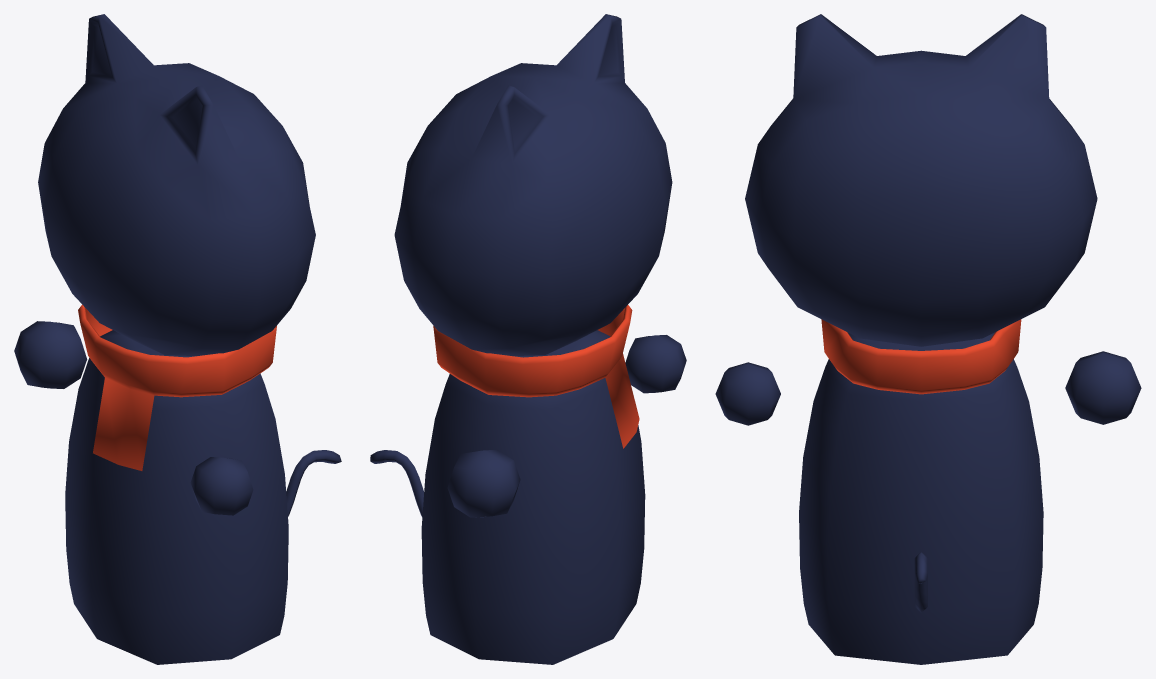
Rendered from dummy_character.fbx.
3 views of the same model, side by side, from view 1: azimuth 30°, elevation 25°; view 2: azimuth 150°, elevation 25°; view 3: azimuth 270°, elevation 25° (orthographic). The views are drawn at different scales.
Parts seen in each view (by area): view 1: mc_head, mc_body, mc_muffler, mc_hand_2, mc_hand, mc_tail; view 2: mc_head, mc_body, mc_muffler, mc_hand_2, mc_hand, mc_tail; view 3: mc_head, mc_body, mc_muffler, mc_hand_2, mc_hand, mc_tail.
Part boxes in pixels (x1,y1,x2,y2): mc_head: (38, 14, 315, 355); mc_body: (65, 330, 288, 664); mc_muffler: (78, 304, 276, 470); mc_hand_2: (14, 321, 87, 388); mc_hand: (190, 457, 253, 515); mc_tail: (286, 450, 341, 516); mc_head: (394, 14, 672, 356); mc_body: (421, 330, 645, 664); mc_muffler: (433, 305, 639, 448); mc_hand_2: (447, 449, 520, 517); mc_hand: (625, 335, 686, 393); mc_tail: (370, 450, 424, 516); mc_head: (745, 14, 1097, 346); mc_body: (799, 332, 1043, 664); mc_muffler: (821, 319, 1021, 394); mc_hand_2: (1065, 351, 1141, 424); mc_hand: (715, 362, 780, 425); mc_tail: (914, 552, 927, 612).
Size of the model in its own units: 146 by 193 by 298.
